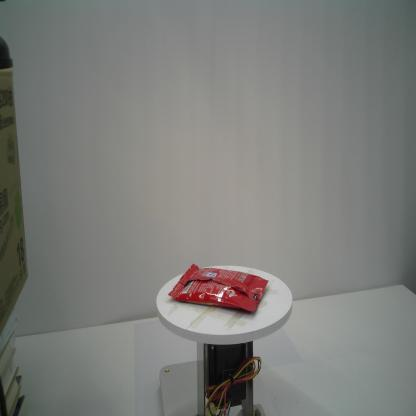Instant Drink: (167, 262, 270, 313)
